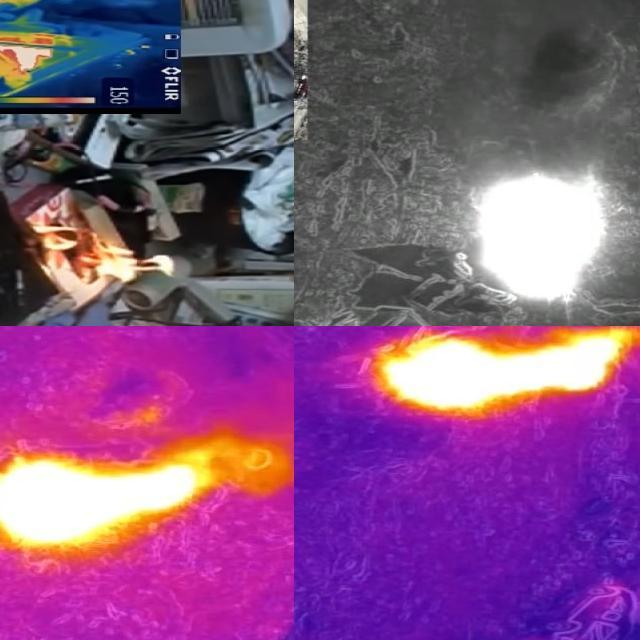fire: (374, 327, 640, 418), (1, 456, 207, 552), (1, 20, 63, 91)
